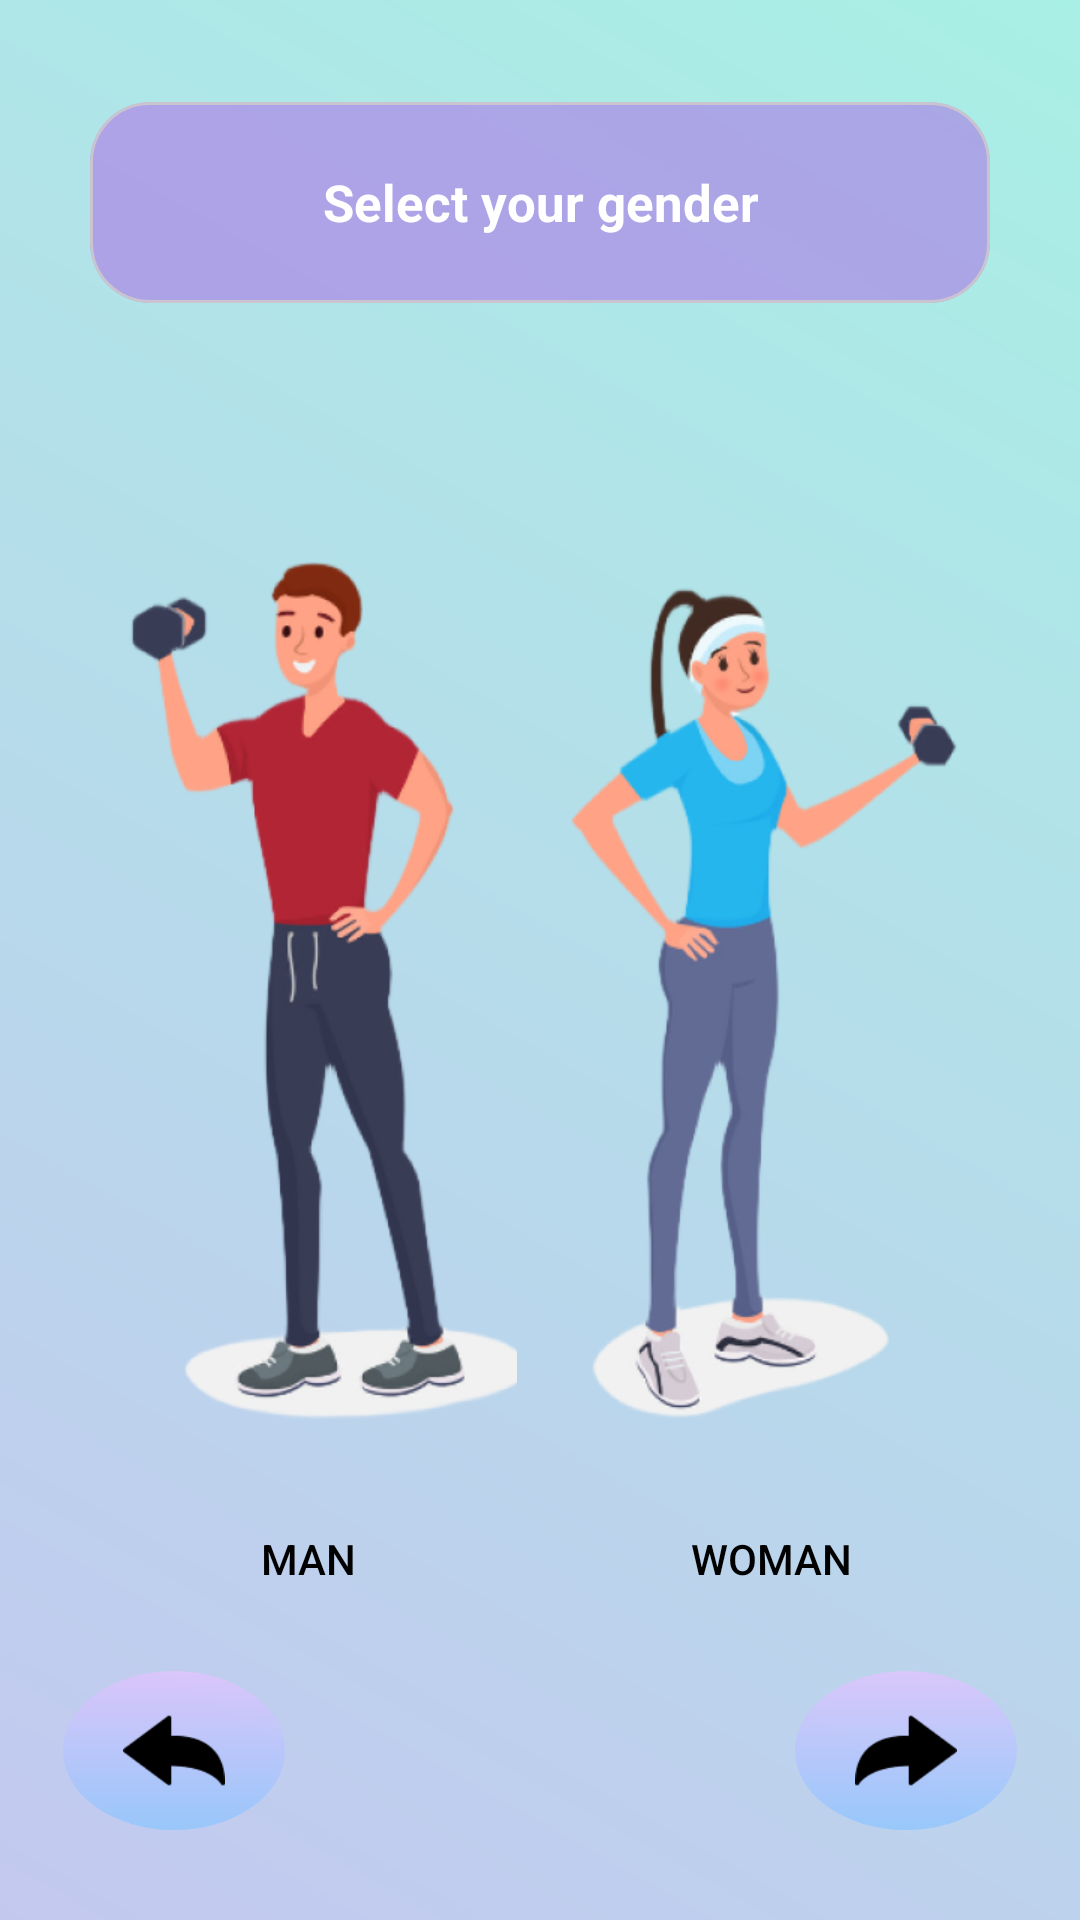

Icons on this 1080px x 1920px Android screen, each with its box as (x1, y1, x2, y2):
turn left: (63, 1671, 285, 1830)
turn right: (795, 1671, 1017, 1830)
